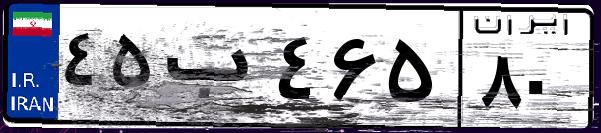0: (525, 38, 570, 115)
4: (270, 28, 330, 110), (57, 26, 110, 100)
5: (385, 28, 445, 110), (110, 28, 158, 98)
6: (330, 28, 385, 110)
8: (475, 38, 525, 113)
ب: (158, 20, 270, 120)
